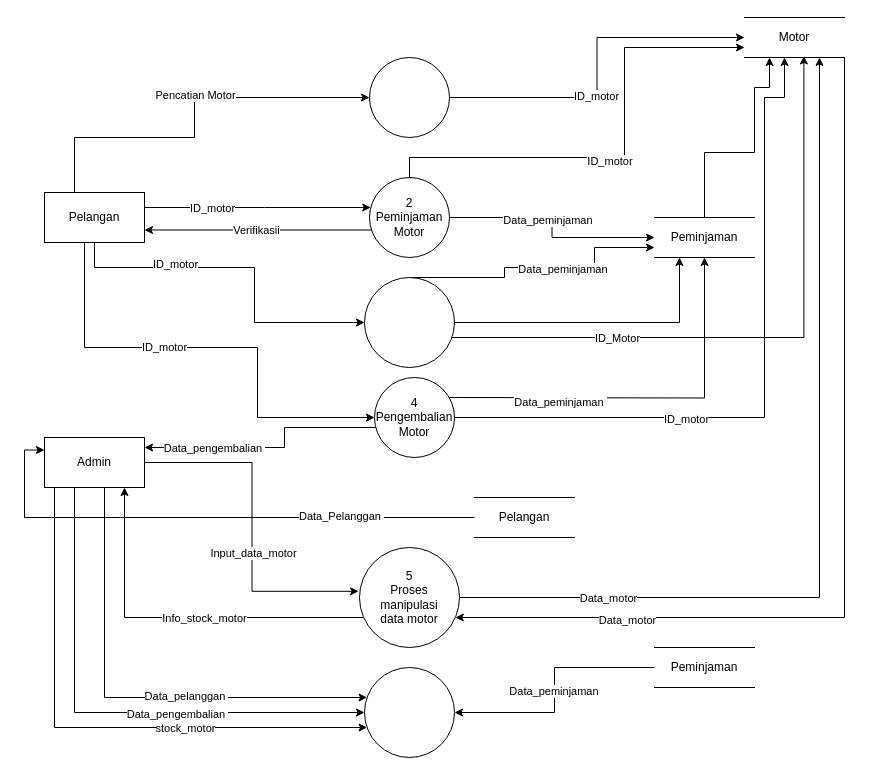
Image size: 870x775. Some labels were removed from this diagram. Each missing label, with the box of its shape:
1 Search Item: (368, 56, 450, 138)
3 Reservasi Motor: (364, 276, 454, 368)
6 Proses pembuatan laporan: (364, 666, 454, 758)
